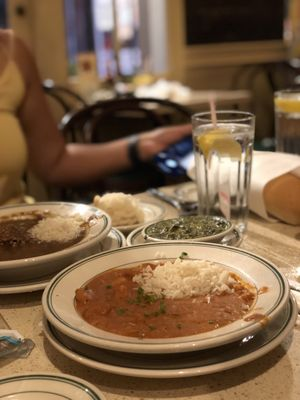pizza: (191, 110, 255, 240), (273, 88, 300, 156)
sushi: (45, 242, 290, 361), (0, 202, 119, 285), (142, 214, 239, 245)
